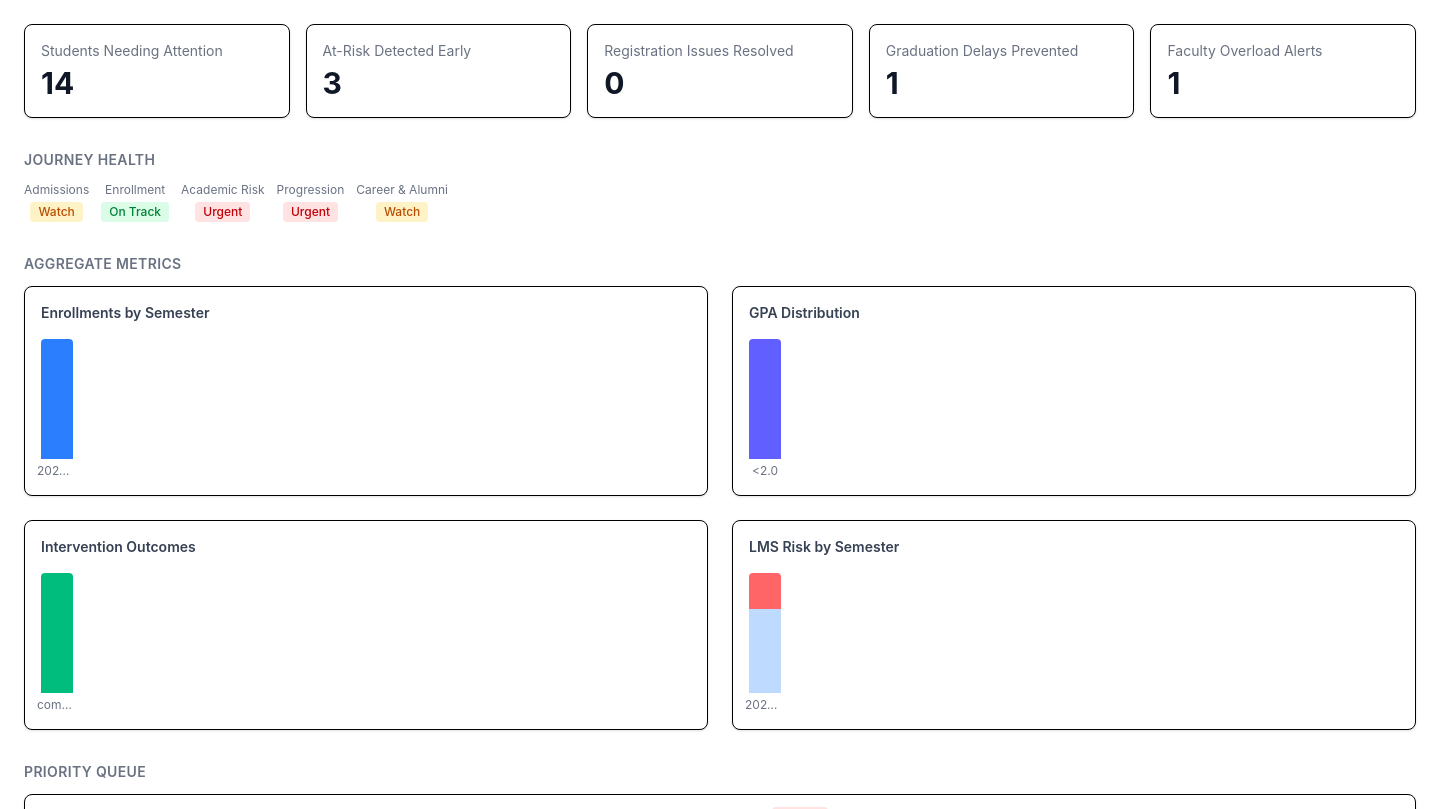
Scenario: OverviewPage drill-down data › opens the panel from server-supplied rows, with no client fetch and no loading state
The image size is (1440, 809).
Step 1. Click the button "Students Needing Attention 14" → (132, 50), box [24,24,290,118]
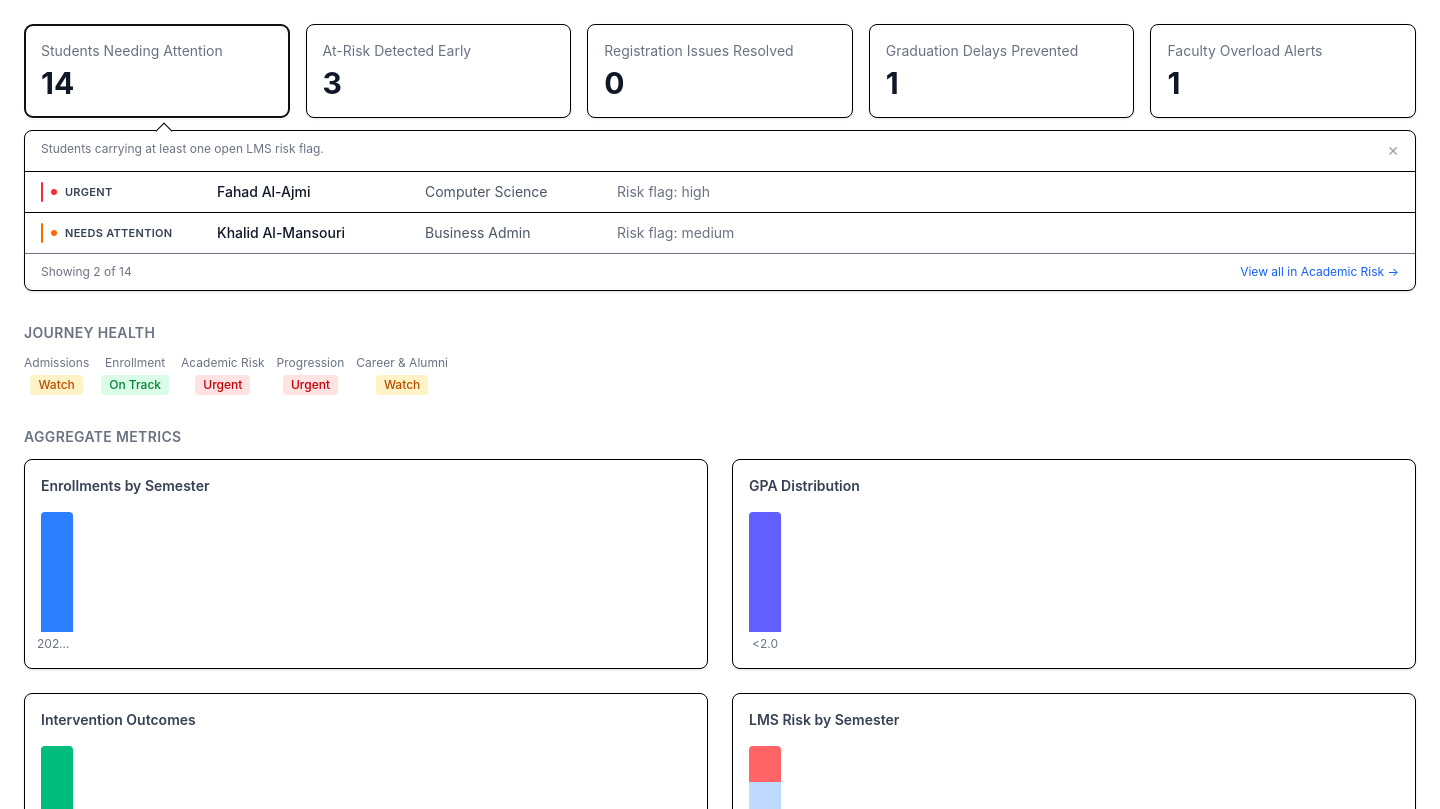
Result: the element with test id "kpi-drilldown" shows "Fahad Al-Ajmi" at [217,183,310,200]
Result: the element with test id "kpi-drilldown" shows "Showing 2 of 14" at [41,264,132,279]
